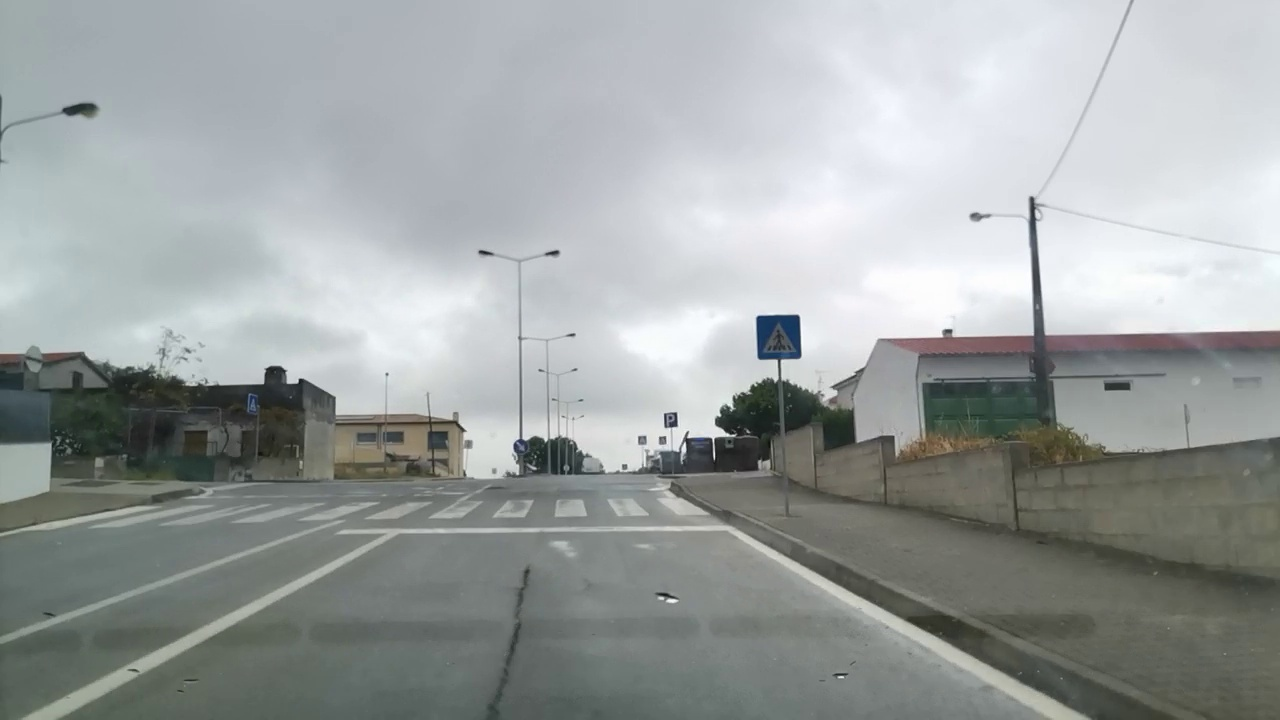Stairs: (35, 494, 713, 523)
